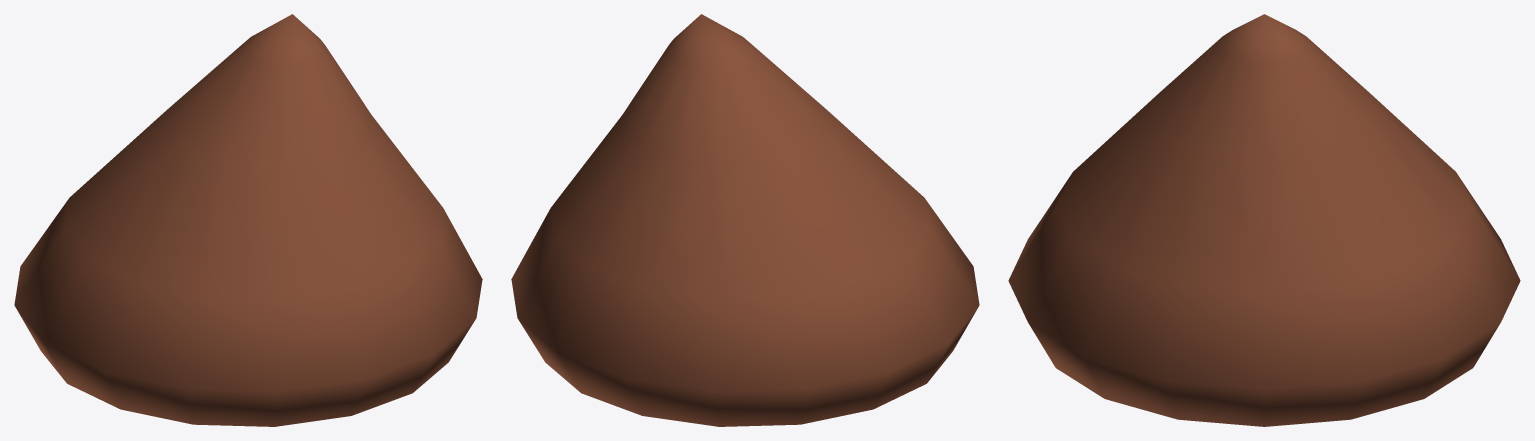
The model's file is ChocolateChip.fbx.
3 views of the same model, side by side, from view 1: azimuth 30°, elevation 25°; view 2: azimuth 150°, elevation 25°; view 3: azimuth 270°, elevation 25° (orthographic). The views are drawn at different scales.
Parts seen in each view (by area): view 1: ChocolateChip; view 2: ChocolateChip; view 3: ChocolateChip.
Boxes of the visible parts, x1,y1,x2,y2 form: ChocolateChip: [14, 14, 482, 426]; ChocolateChip: [511, 14, 979, 426]; ChocolateChip: [1008, 14, 1520, 426].
Size of the model in its own units: 0.0136 by 0.01 by 0.0136.
